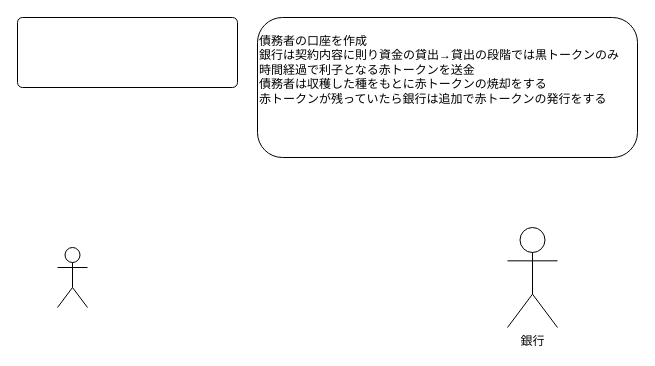
Image size: 655x366. Some labels were removed from this diagram. The box of each missing label's shape, as (x1, y1, x2, y2) in pixels:
借りる人: (56, 246, 88, 308)
銀行が貸出債務者が利子をつけて 返済することで利益が出る: (16, 16, 238, 88)
